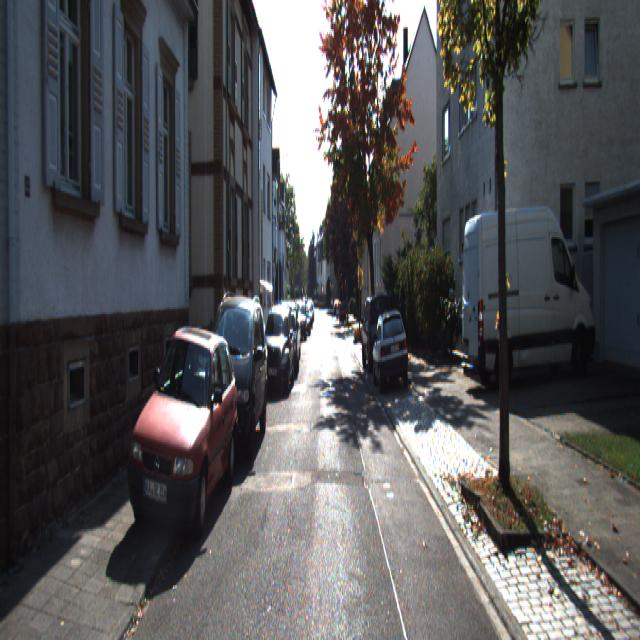Car: (458, 196, 597, 393), (121, 324, 242, 550), (197, 286, 273, 465), (258, 298, 296, 397), (371, 307, 412, 394), (361, 290, 394, 372), (276, 298, 300, 376)
